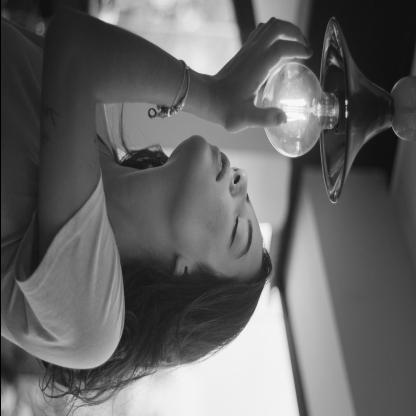Eye: (226, 216, 246, 252)
Mouth: (209, 146, 231, 184)
Nose: (228, 166, 250, 202)
